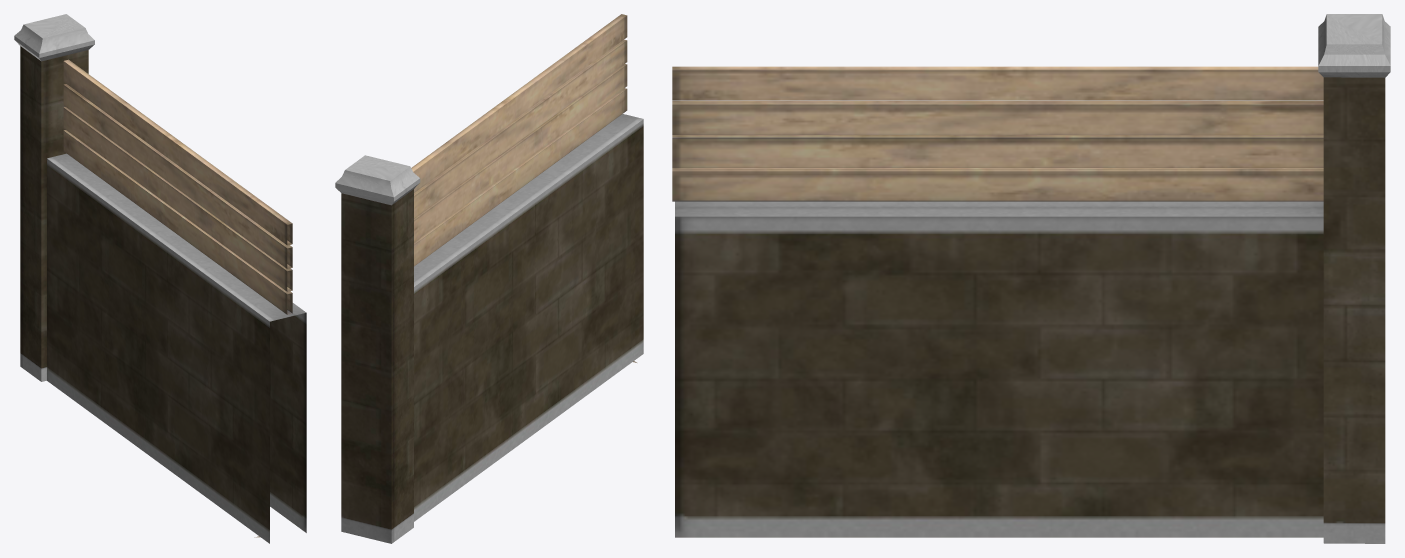
File: Fence_full.fbx
3 views of the same model, side by side, from view 1: azimuth 30°, elevation 25°; view 2: azimuth 150°, elevation 25°; view 3: azimuth 270°, elevation 25° (orthographic). The views are drawn at different scales.
Visible parts, largest first — view 1: Fence1; view 2: Fence1; view 3: Fence1.
Boxes of the visible parts, x1,y1,x2,y2 form: Fence1: [14, 14, 306, 543]; Fence1: [335, 14, 643, 543]; Fence1: [672, 14, 1390, 543].
Size of the model in its own units: 41.41 by 243 by 318.
1 material, 1 textured.
